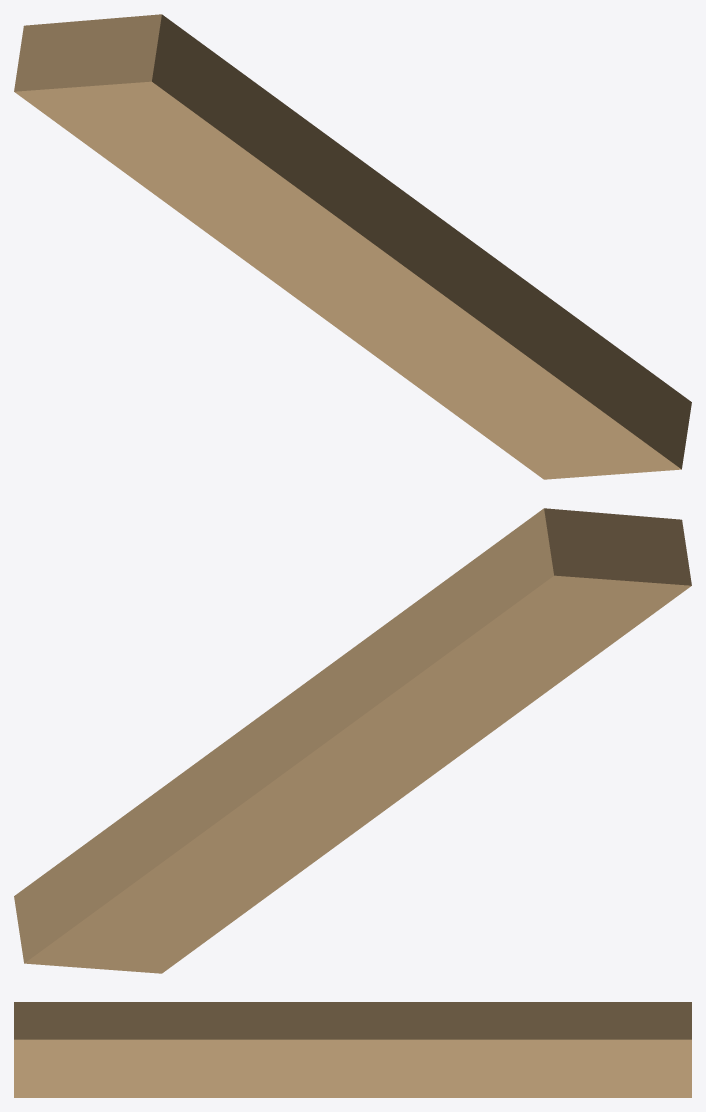
The picture shows the model from 3 angles, top to bottom: view 1: azimuth 30°, elevation 25°; view 2: azimuth 150°, elevation 25°; view 3: azimuth 270°, elevation 25°; orthographic projection. The views are drawn at different scales.
Parts seen in each view (by area): view 1: 0_3_2_2_3_0_0_0_0_3_1; view 2: 0_3_2_2_3_0_0_0_0_3_1; view 3: 0_3_2_2_3_0_0_0_0_3_1.
Boxes of the visible parts, <box> form: 0_3_2_2_3_0_0_0_0_3_1: <box>14,14,691,479</box>; 0_3_2_2_3_0_0_0_0_3_1: <box>14,508,691,973</box>; 0_3_2_2_3_0_0_0_0_3_1: <box>14,1002,691,1097</box>.
Bounding box in the file's own units: 3.87 × 2.18 × 24.
